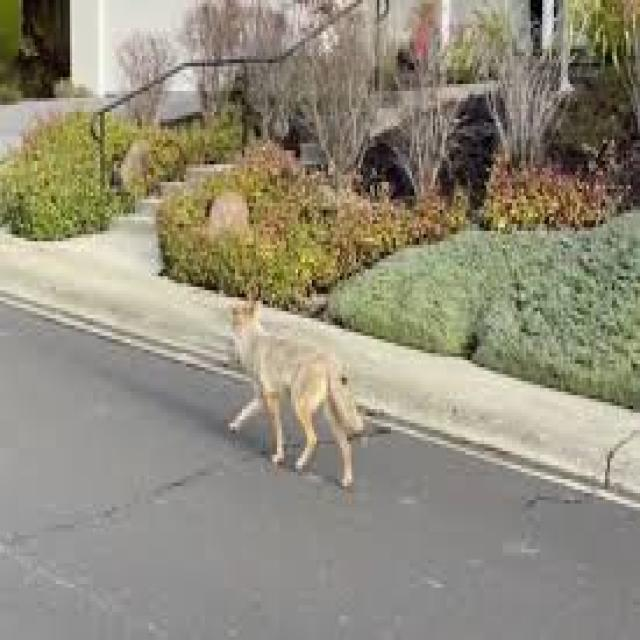Coyote: (220, 288, 364, 496)
